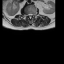CCS_normal: (29, 12, 31, 20)
LFS_stenosis: (32, 12, 34, 16)
LLS_normal: (31, 12, 33, 17)
RFS_stenosis: (26, 12, 28, 16)
RLS_normal: (27, 12, 29, 17)
